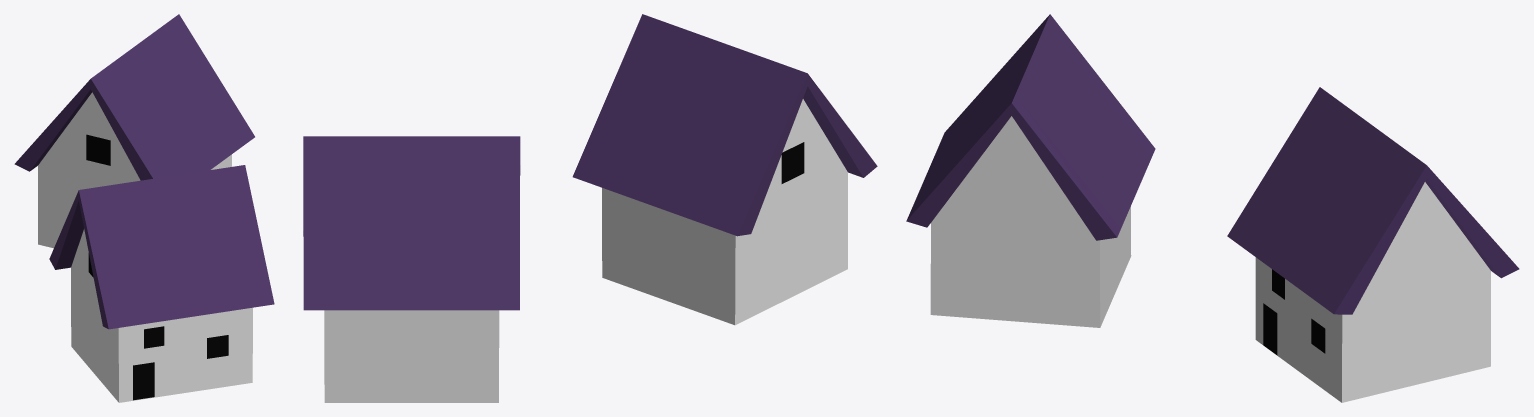
Rendered from housing.fbx.
The picture shows the model from 3 angles, left to right: view 1: azimuth 30°, elevation 25°; view 2: azimuth 150°, elevation 25°; view 3: azimuth 270°, elevation 25°; orthographic projection. The views are drawn at different scales.
Visible parts, largest first — view 1: Cube.002; view 2: Cube.002; view 3: Cube.002.
Boxes of the visible parts, x1,y1,x2,y2 form: Cube.002: (14, 14, 274, 402); Cube.002: (303, 14, 877, 402); Cube.002: (906, 14, 1519, 402).
Bounding box in the file's own units: 47.69 × 27.78 × 67.99.
